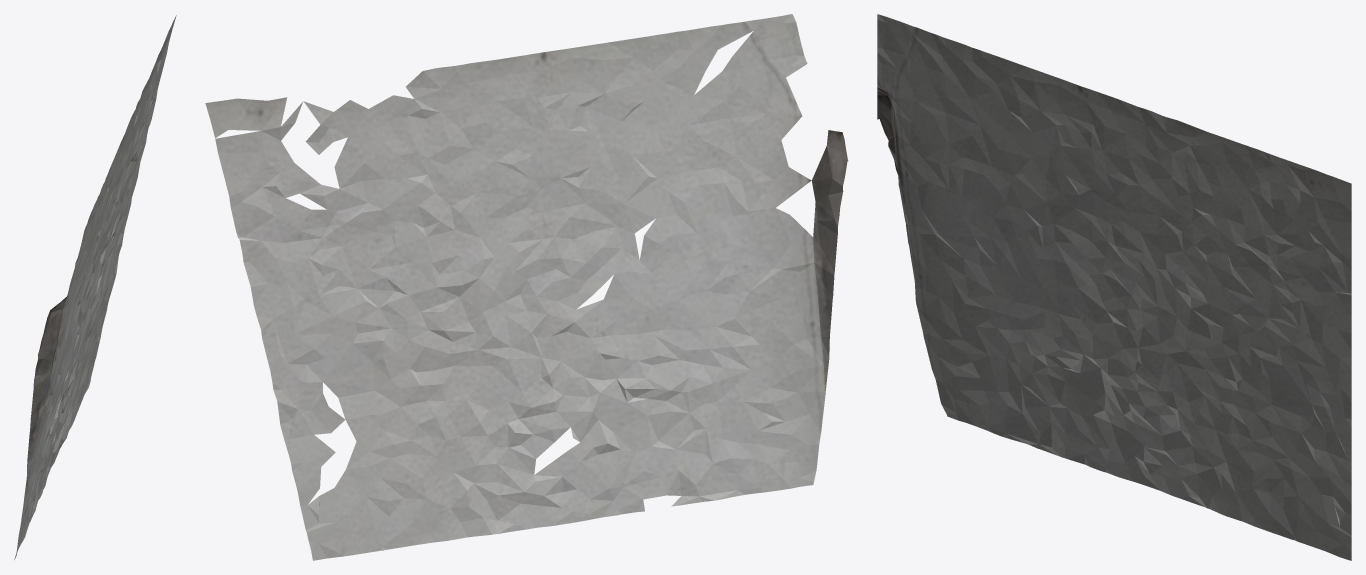
3 renders of one model, left to right at view 1: azimuth 30°, elevation 25°; view 2: azimuth 150°, elevation 25°; view 3: azimuth 270°, elevation 25°, orthographic. The views are drawn at different scales.
Bounding box in the file's own units: 0.8227 × 0.8373 × 0.8374.
Materials: 3 (3 with a texture image).
